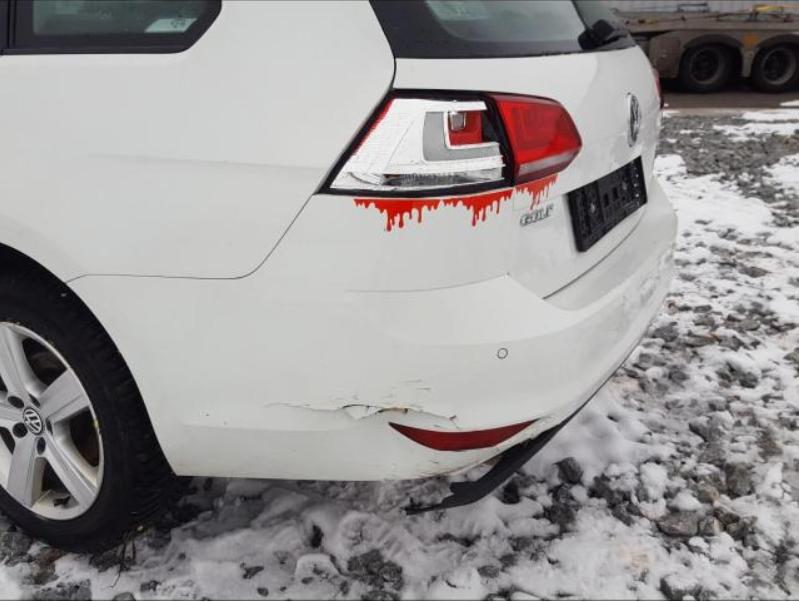Back-bumper: (67, 173, 677, 483)
Back-wheel: (0, 246, 163, 556)
Back-window: (0, 0, 223, 55)
Back-windshield: (371, 0, 636, 58)
License-plate: (564, 156, 648, 253)
Quarter-panel: (0, 0, 394, 285)
Tail-light: (322, 90, 583, 197), (651, 66, 663, 115)
Trunk: (390, 44, 661, 298)
